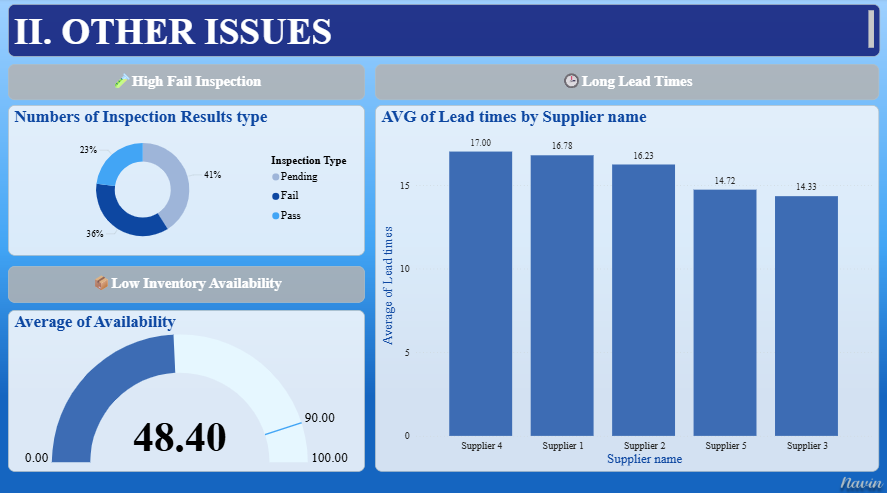

The page's visual inventory and layout, read from the dashboard file:
{"tool":"powerbi","page":{"name":"II. OTHER FACTORS","canvas":[1280,720],"ordinal":1},"visuals":[{"type":"donutChart","title":"Numbers of Inspection Results type","fields":{"Category":["supply_chain_data.Inspection results"],"Y":["CountNonNull(supply_chain_data.Inspection results)"]},"box":[11.5,154.1,514.1,217.4],"z":0},{"type":"textbox","box":[11.5,95,514.1,51.8],"z":1000},{"type":"textbox","box":[11.5,385.9,514.1,53.3],"z":2000},{"type":"textbox","box":[540,95,725.8,51.8],"z":3000},{"type":"gauge","fields":{"Y":["Avg(supply_chain_data.Availability)"]},"box":[11.5,449.3,514.1,233.3],"z":4000},{"type":"clusteredColumnChart","title":"AVG of Lead times by Supplier name","fields":{"Category":["supply_chain_data.Supplier name"],"Y":["Avg(supply_chain_data.Lead times)"]},"box":[540,154.1,725.8,528.5],"z":5000},{"type":"textbox","box":[11.5,8.6,1255.7,76.3],"z":6000}]}

Visuals, with their boxes in screenshot pixels (x1, y1, x2, y2), scaled from the page's 1280x720 canvas onto the 887x493 screenshot:
"Numbers of Inspection Results type" donutChart: x1=8, y1=106, x2=364, y2=254
textbox: x1=8, y1=65, x2=364, y2=101
textbox: x1=8, y1=264, x2=364, y2=301
textbox: x1=374, y1=65, x2=877, y2=101
gauge - Avg(supply_chain_data.Availability): x1=8, y1=308, x2=364, y2=467
"AVG of Lead times by Supplier name" clusteredColumnChart: x1=374, y1=106, x2=877, y2=467
textbox: x1=8, y1=6, x2=878, y2=58
